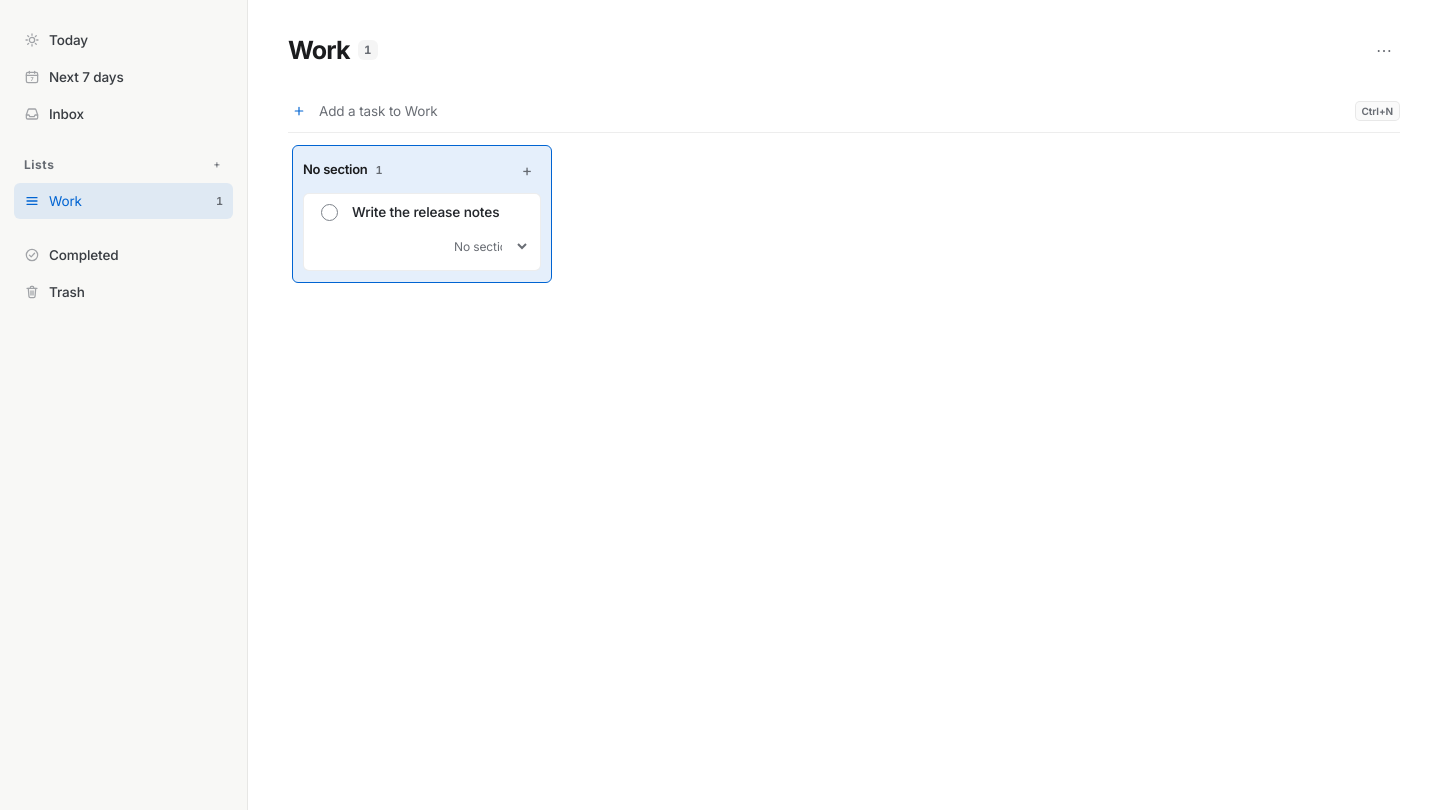
Scenario: View Options › opens the same form from the header as from the row
Click the button named "Add a task to": (527, 170) [513,156,541,184]
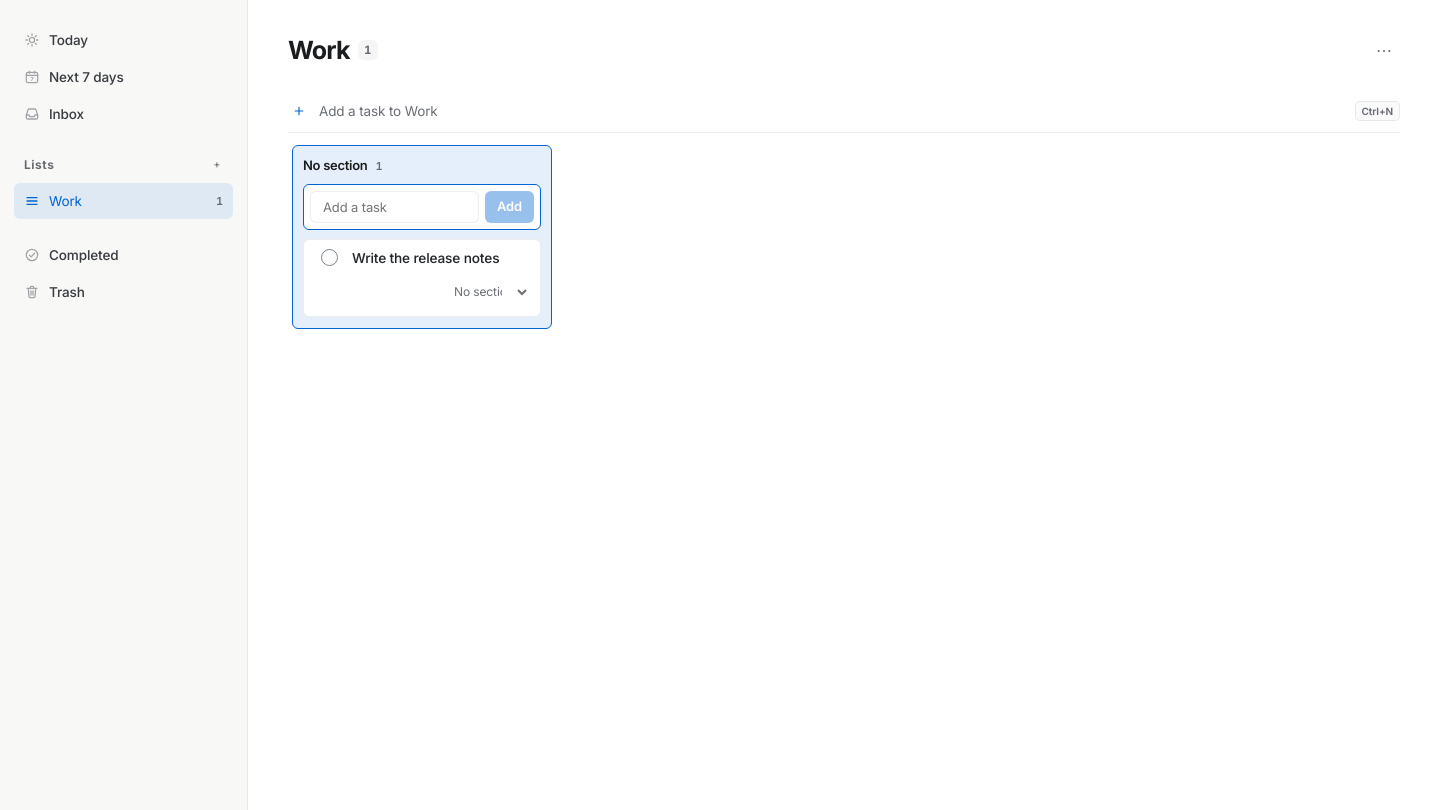
Now no buttons with class "tm-column-add-head" are shown
